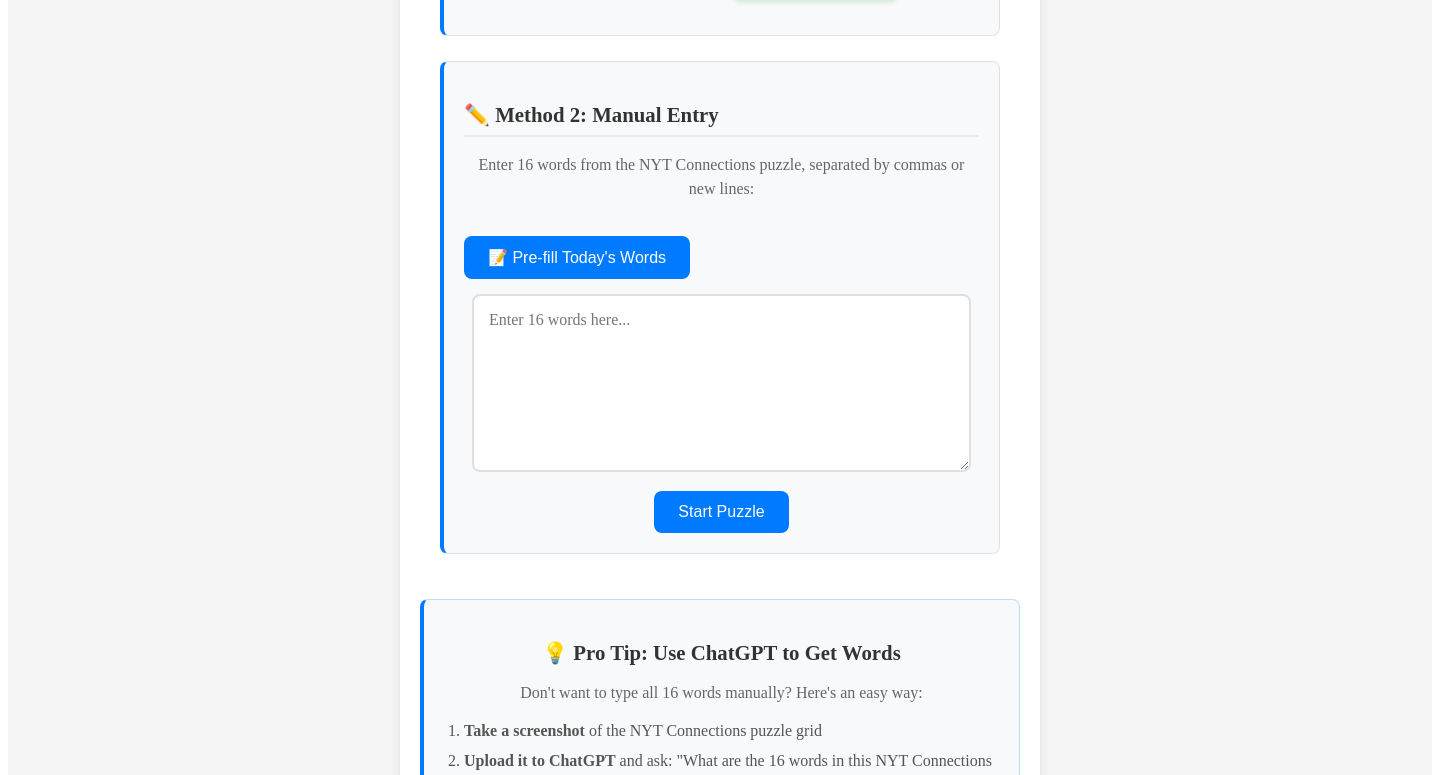
Scenario: App Component › shows game board with words
The width and height of the screenshot is (1440, 775).
(page scrolled)
Type "word1, word2, word3, word4, word5, word6, word7, word8, word9, word10, word11, word12, word13, word14, word15, word16" into the text box with placeholder "Enter 16 words here...". click: (722,383)
box: [472, 294, 971, 472]
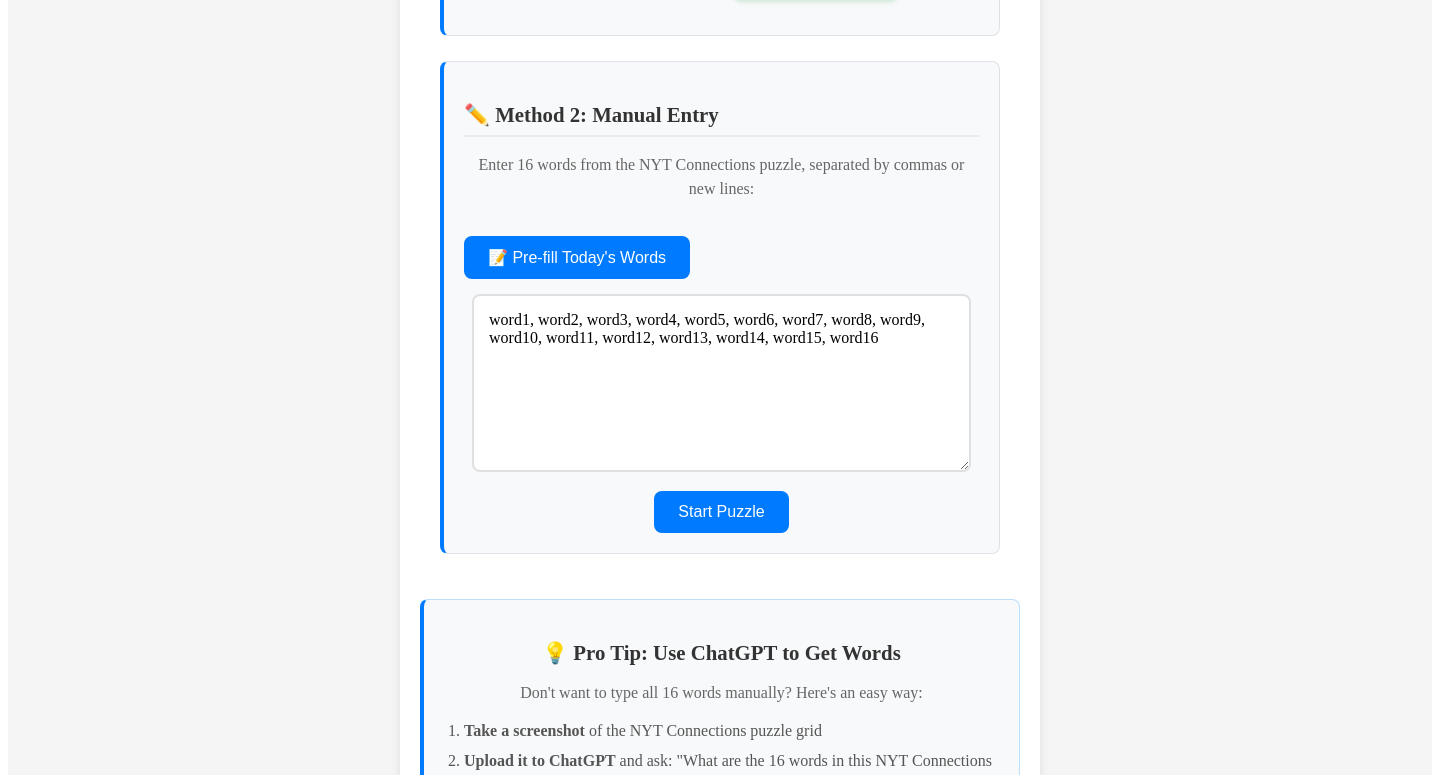
Click the button "Start Puzzle". click: (722,512)
box: [654, 491, 789, 533]
(page scrolled)
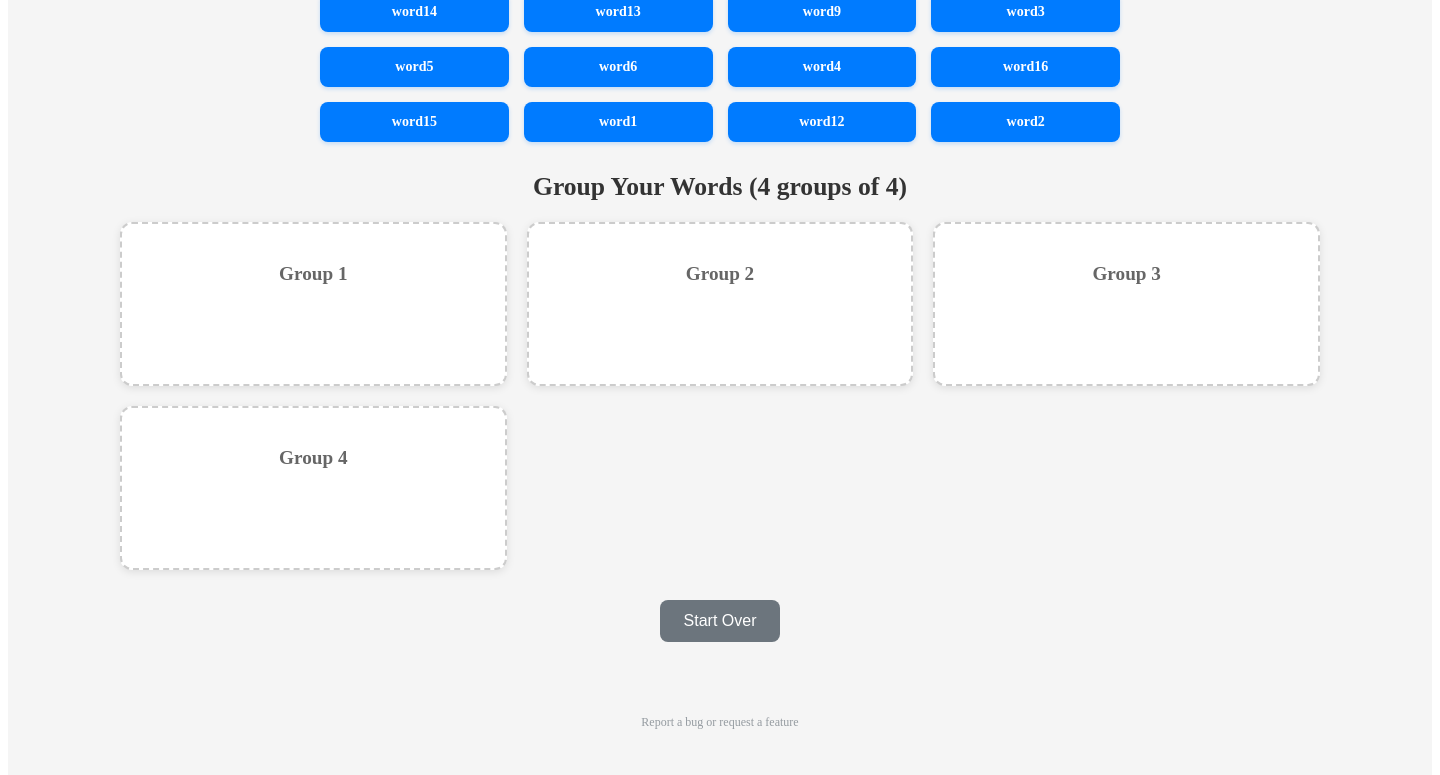
Expected: the text "word1" is shown, [524, 102, 713, 142]
Expected: the text "word16" is shown, [931, 47, 1120, 87]
